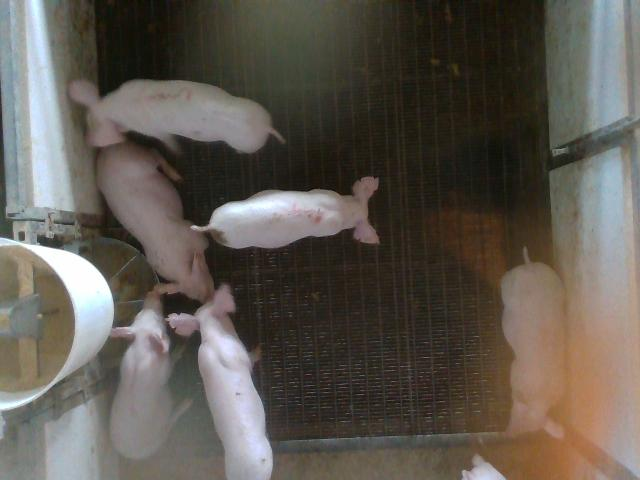pig-3: (70, 79, 285, 152)
pig-4: (501, 248, 565, 438)
pig-5: (192, 176, 379, 248)
